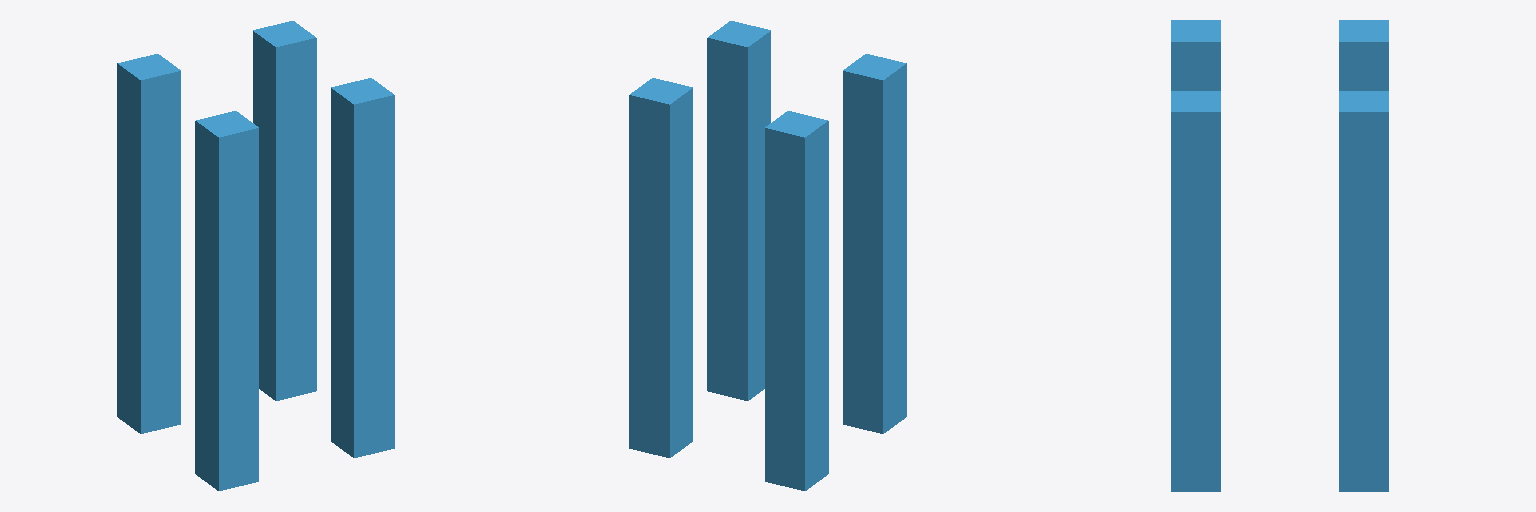
The robot description file, URDF, robot "urdf_table":
<?xml version="1.0" ?>
<robot name="urdf_table">
 <link name="world"/>
  <joint name="fixed" type="fixed">
    <parent link="world"/>
    <child link="baseLink"/>
    <origin xyz="0 0 0"/>
  </joint>

  <link name="baseLink">
  
    <contact>
      <lateral_friction value="1.0"/>
      <rolling_friction value="1.0"/>
      <contact_cfm value="0.001"/>
      <contact_erp value="0.2"/>
    </contact>
  
    <inertial>
      <origin rpy="0 0 0" xyz="0 0 0.6"/>
       <mass value="0"/>
       <inertia ixx="0.1" ixy="0" ixz="0" iyy="0.1" iyz="0" izz="0.1"/>
    </inertial>
    <visual>
      <origin rpy="0 0 0" xyz="0 0 0.6"/>
      <geometry>
	    <mesh filename="table.obj" scale="0.15 0.15 0.03"/>
      </geometry>
	   <material name="metal_gray">
      		<color rgba=" 0.8352941176470589 0.6901960784313725 0.48627450980392156 1" />
      	   </material>
    </visual>
    
    <visual>
      <origin rpy="0 0 0" xyz="-0.05 -0.05 0.475"/>
      <geometry>
        <box size="0.03 0.03 0.25"/>
      </geometry>
	  <material name="framemat0"/>	 
    </visual>
    
    <visual>
      <origin rpy="0 0 0" xyz="-0.05 0.05 0.475"/>
      <geometry>
        <box size="0.03 0.03 0.25"/>
      </geometry>
	  <material name="framemat0"/>
    </visual>
    
    <visual>
      <origin rpy="0 0 0" xyz="0.05 -0.05 0.475"/>
      <geometry>
        <box size="0.03 0.03 0.25"/>
      </geometry>
	  <material name="framemat0"/>
    </visual>
	  
    <visual>
      <origin rpy="0 0 0" xyz="0.05 0.05 0.475"/>
      <geometry>
        <box size="0.03 0.03 0.25"/>
      </geometry>
           <material name="framemat0"/>
    </visual>
    
    <collision>
      <origin rpy="0 0 0" xyz="0 0 0.6"/>
      <geometry>
      <box size="0.15 0.15 0.03"/>
      </geometry>
    </collision>    
  </link>
</robot>

--- Render facts (derived) ---
Views: 3 orthographic renders of the robot side by side, from view 1: azimuth 30°, elevation 25°; view 2: azimuth 150°, elevation 25°; view 3: azimuth 270°, elevation 25°.
Robot: urdf_table — 2 links, 1 joints (1 fixed); root link world; default pose: all joints at 0.
Visible links, largest first — view 1: baseLink; view 2: baseLink; view 3: baseLink.
Link boxes in pixels (x1,y1,x2,y2): baseLink: (117,21,394,490); baseLink: (629,21,906,490); baseLink: (1171,20,1388,491).
Bounding box of the posed robot: 0.13 × 0.13 × 0.25 m (x, y, z).
Meshes: 1 distinct files referenced, 0 mesh visuals loaded (none loaded); not drawn: 1 (reference not matched to a file when rendering).